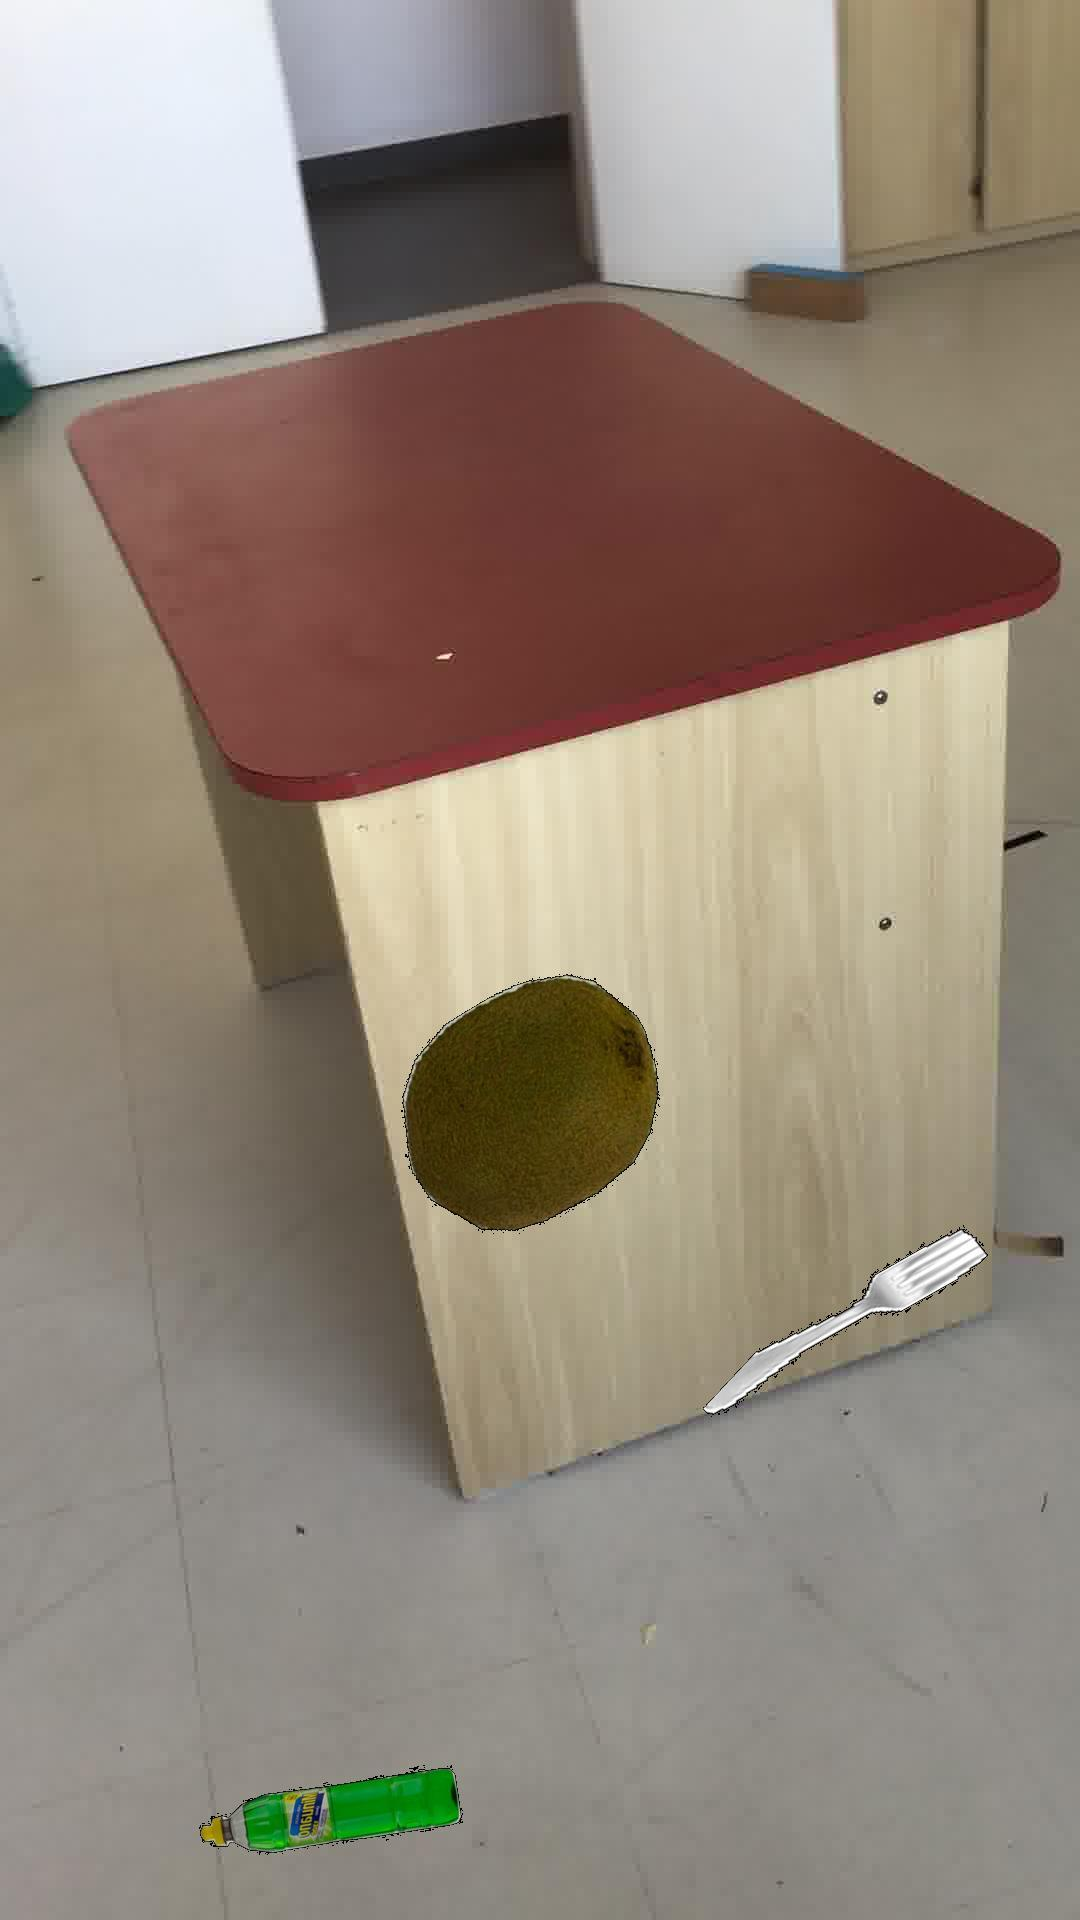cleaner: (199, 1764, 462, 1854)
fork: (702, 1225, 986, 1414)
kiwi: (401, 972, 658, 1229)
